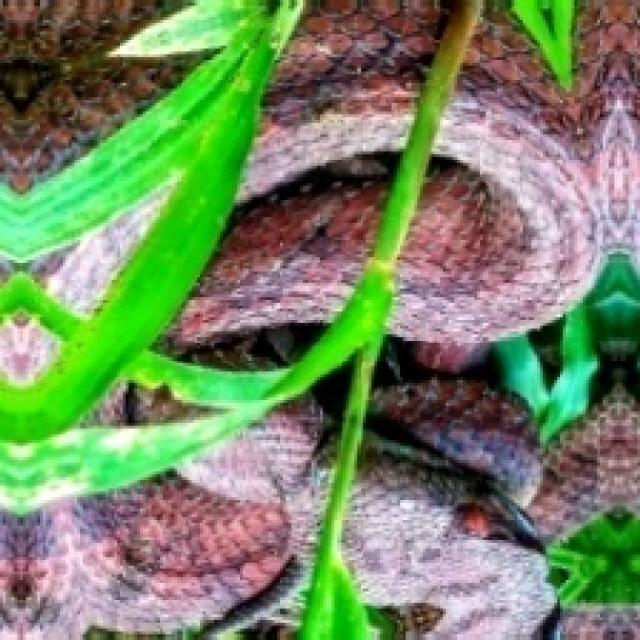philippine pitviper: (345, 0, 640, 640), (161, 0, 446, 368), (0, 374, 346, 640), (0, 0, 204, 189), (31, 196, 162, 312), (90, 385, 196, 425), (0, 320, 55, 379), (562, 608, 640, 640)
